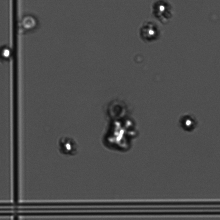Dead Cell: (106, 93, 130, 122), (17, 11, 41, 34)
Living Cell: (103, 118, 141, 151), (176, 110, 200, 133), (54, 135, 79, 156), (138, 22, 164, 41), (149, 1, 176, 19), (1, 45, 14, 62)
